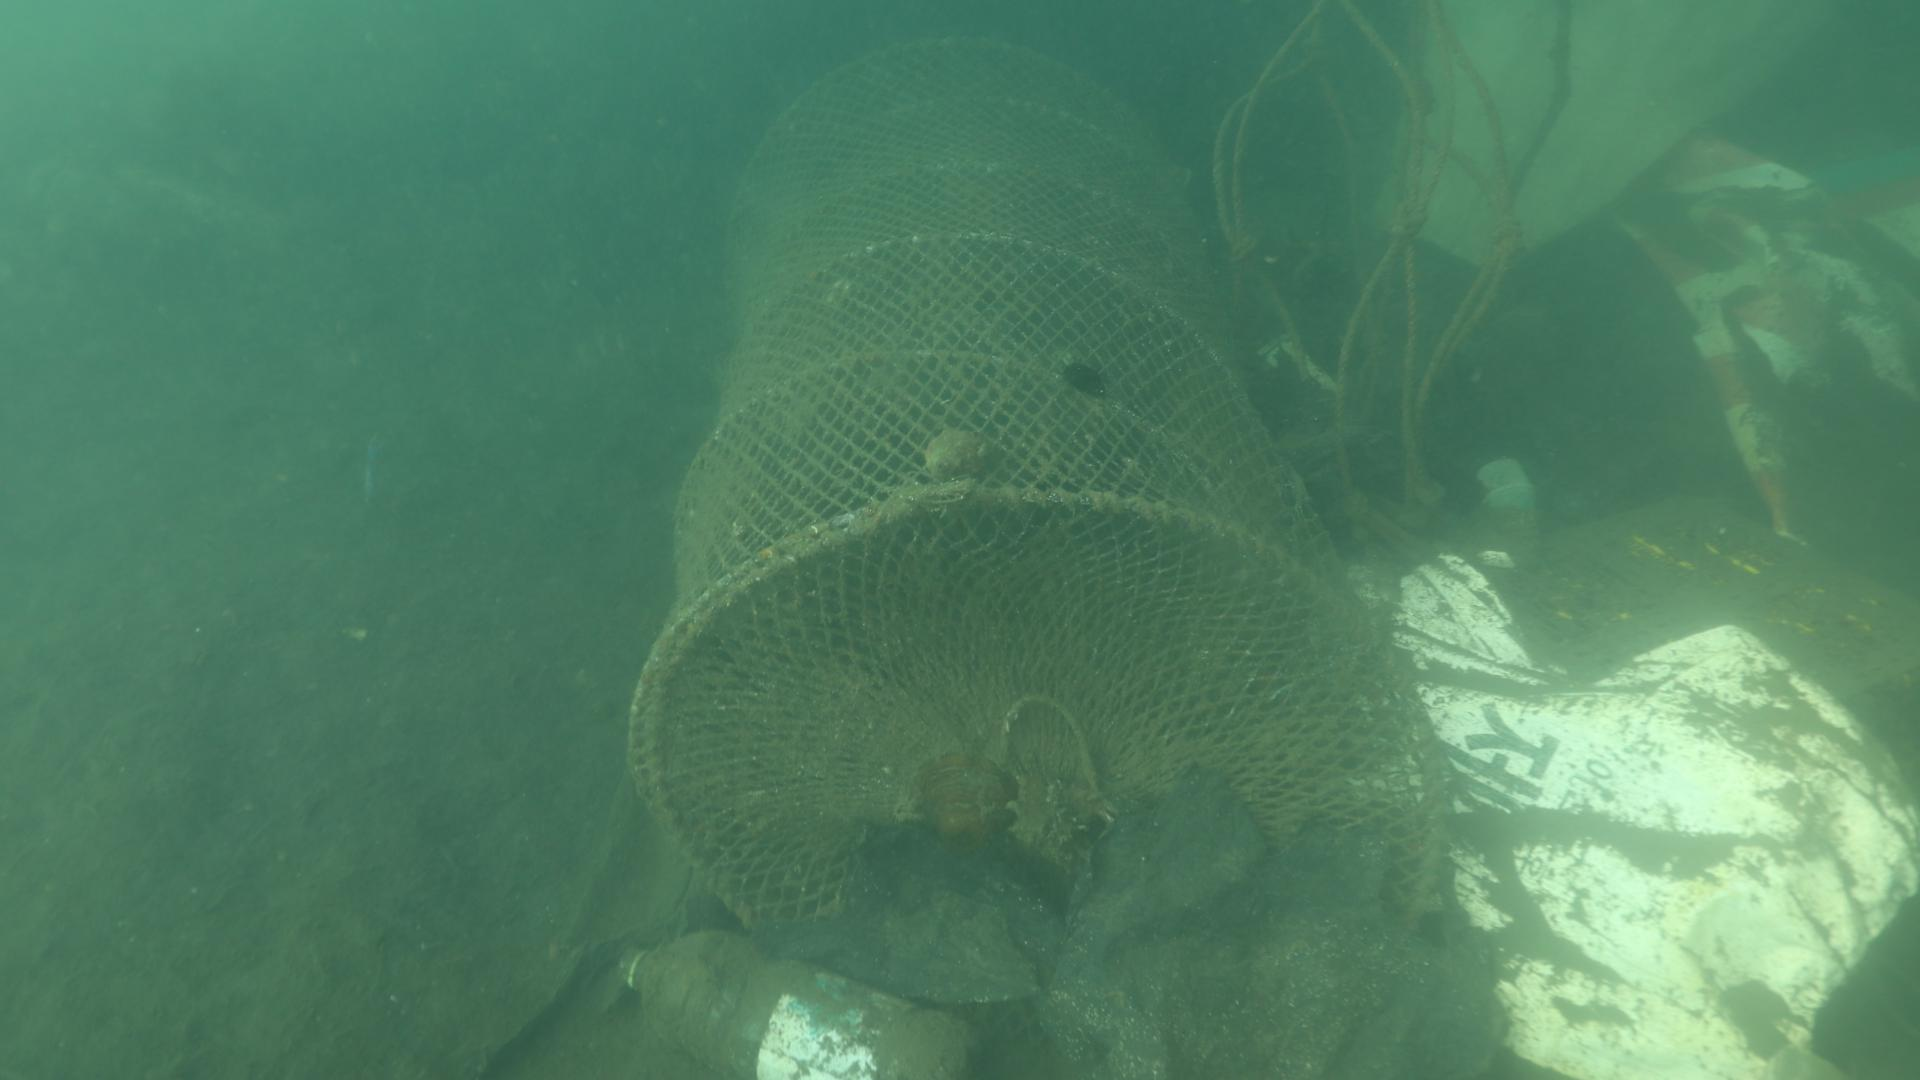bundle of ropes: (1205, 0, 1578, 556)
spring fish trap: (622, 38, 1449, 1011)
